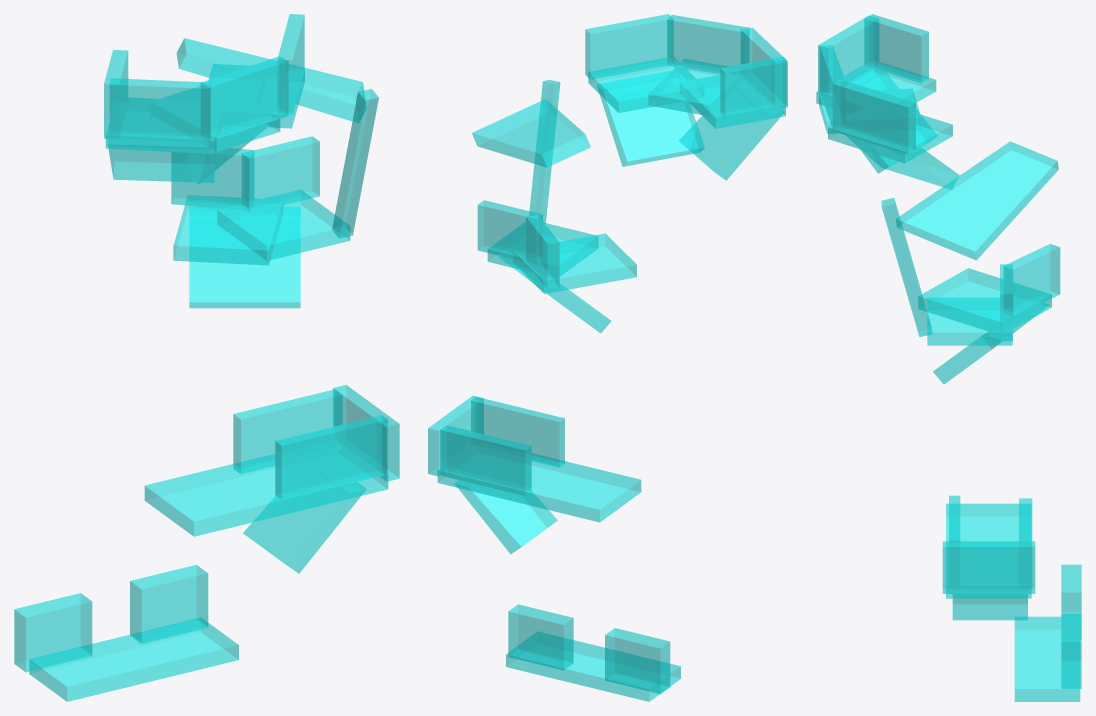
File: SM_Bld_Plane_Crash_01_Platforms_01_Collision.fbx
The picture shows the model from 3 angles, left to right: view 1: azimuth 30°, elevation 25°; view 2: azimuth 150°, elevation 25°; view 3: azimuth 270°, elevation 25°; orthographic projection. The views are drawn at different scales.
Visible parts, largest first — view 1: SM_Bld_Plane_Crash_01_Platforms_01_Collision; view 2: SM_Bld_Plane_Crash_01_Platforms_01_Collision; view 3: SM_Bld_Plane_Crash_01_Platforms_01_Collision.
Part boxes in pixels (x1,y1,x2,y2): SM_Bld_Plane_Crash_01_Platforms_01_Collision: (14, 14, 399, 701); SM_Bld_Plane_Crash_01_Platforms_01_Collision: (428, 14, 787, 701); SM_Bld_Plane_Crash_01_Platforms_01_Collision: (816, 14, 1081, 701).
Bounding box in the file's own units: 863 × 1688 × 681.
